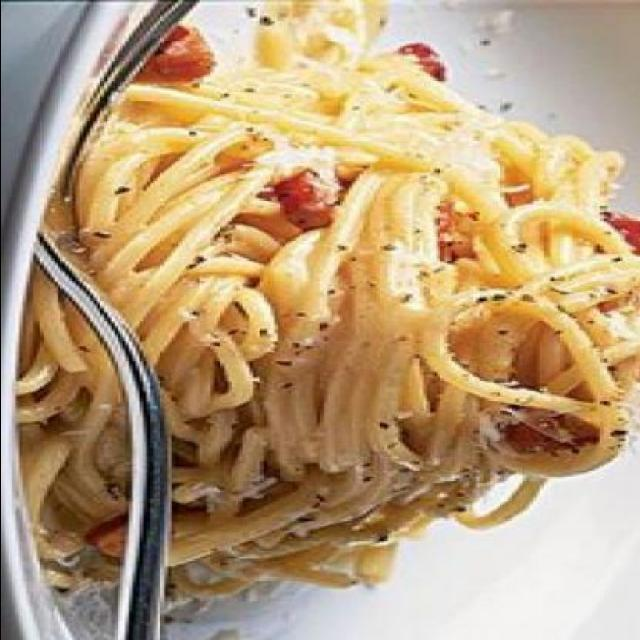Pasta with carbonara sauce: (36, 54, 634, 606)
